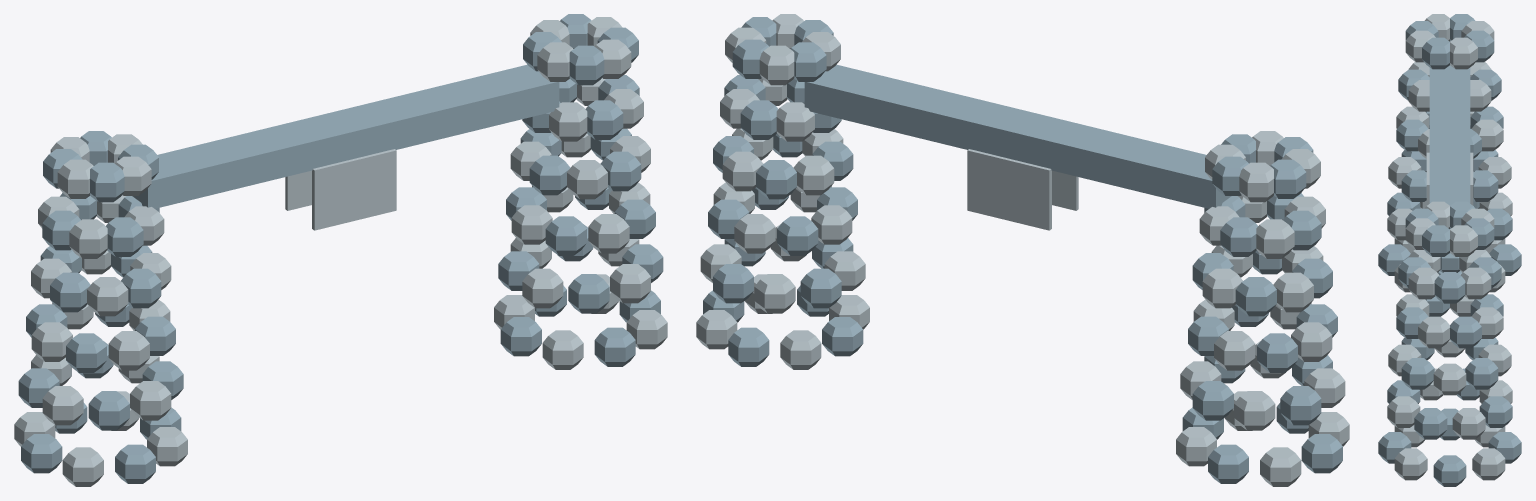
File: owl_gate.glb
3 views of the same model, side by side, from view 1: azimuth 30°, elevation 25°; view 2: azimuth 150°, elevation 25°; view 3: azimuth 270°, elevation 25° (orthographic). The views are drawn at different scales.
Visible parts, largest first — view 1: owl_gate; view 2: owl_gate; view 3: owl_gate.
Part boxes in pixels (bbox=[...]): owl_gate: bbox=[14, 14, 667, 486]; owl_gate: bbox=[696, 14, 1349, 486]; owl_gate: bbox=[1378, 14, 1521, 486].
Bounding box in the file's own units: 4.59 × 2.1 × 1.13.
